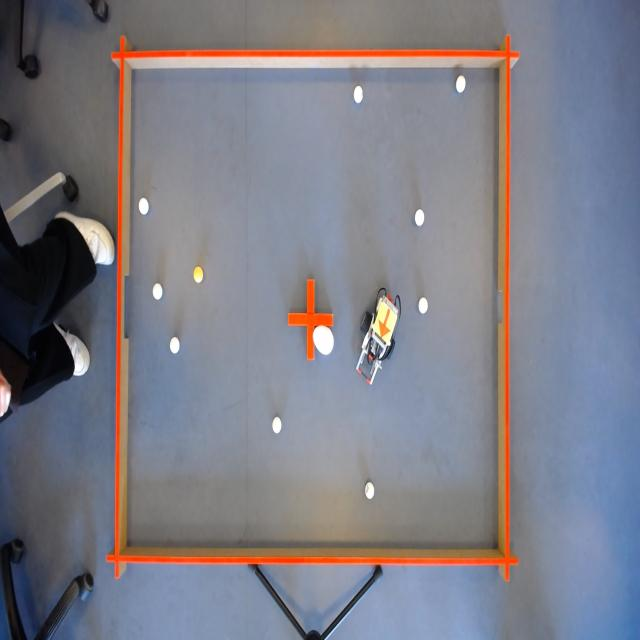cross: (287, 276, 335, 364)
egg: (312, 324, 336, 358)
orange_ball: (192, 261, 204, 285)
robot: (372, 300, 399, 345)
white_ball: (352, 82, 366, 107), (363, 478, 377, 502), (168, 333, 182, 357), (417, 294, 429, 320), (271, 412, 283, 438), (138, 194, 150, 219), (454, 72, 466, 96), (414, 207, 426, 230), (151, 281, 164, 302)
